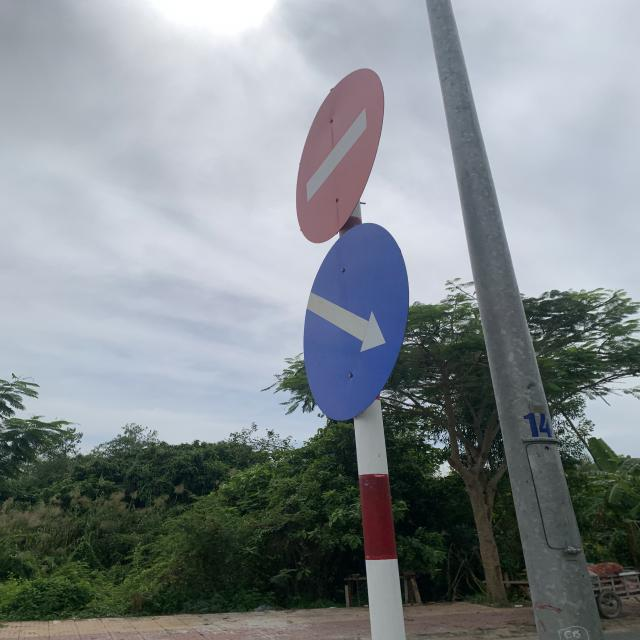Cam_Di_Nguoc_Chieu: (296, 68, 384, 246)
Chi_Huong_Di_Phai: (303, 224, 411, 422)
